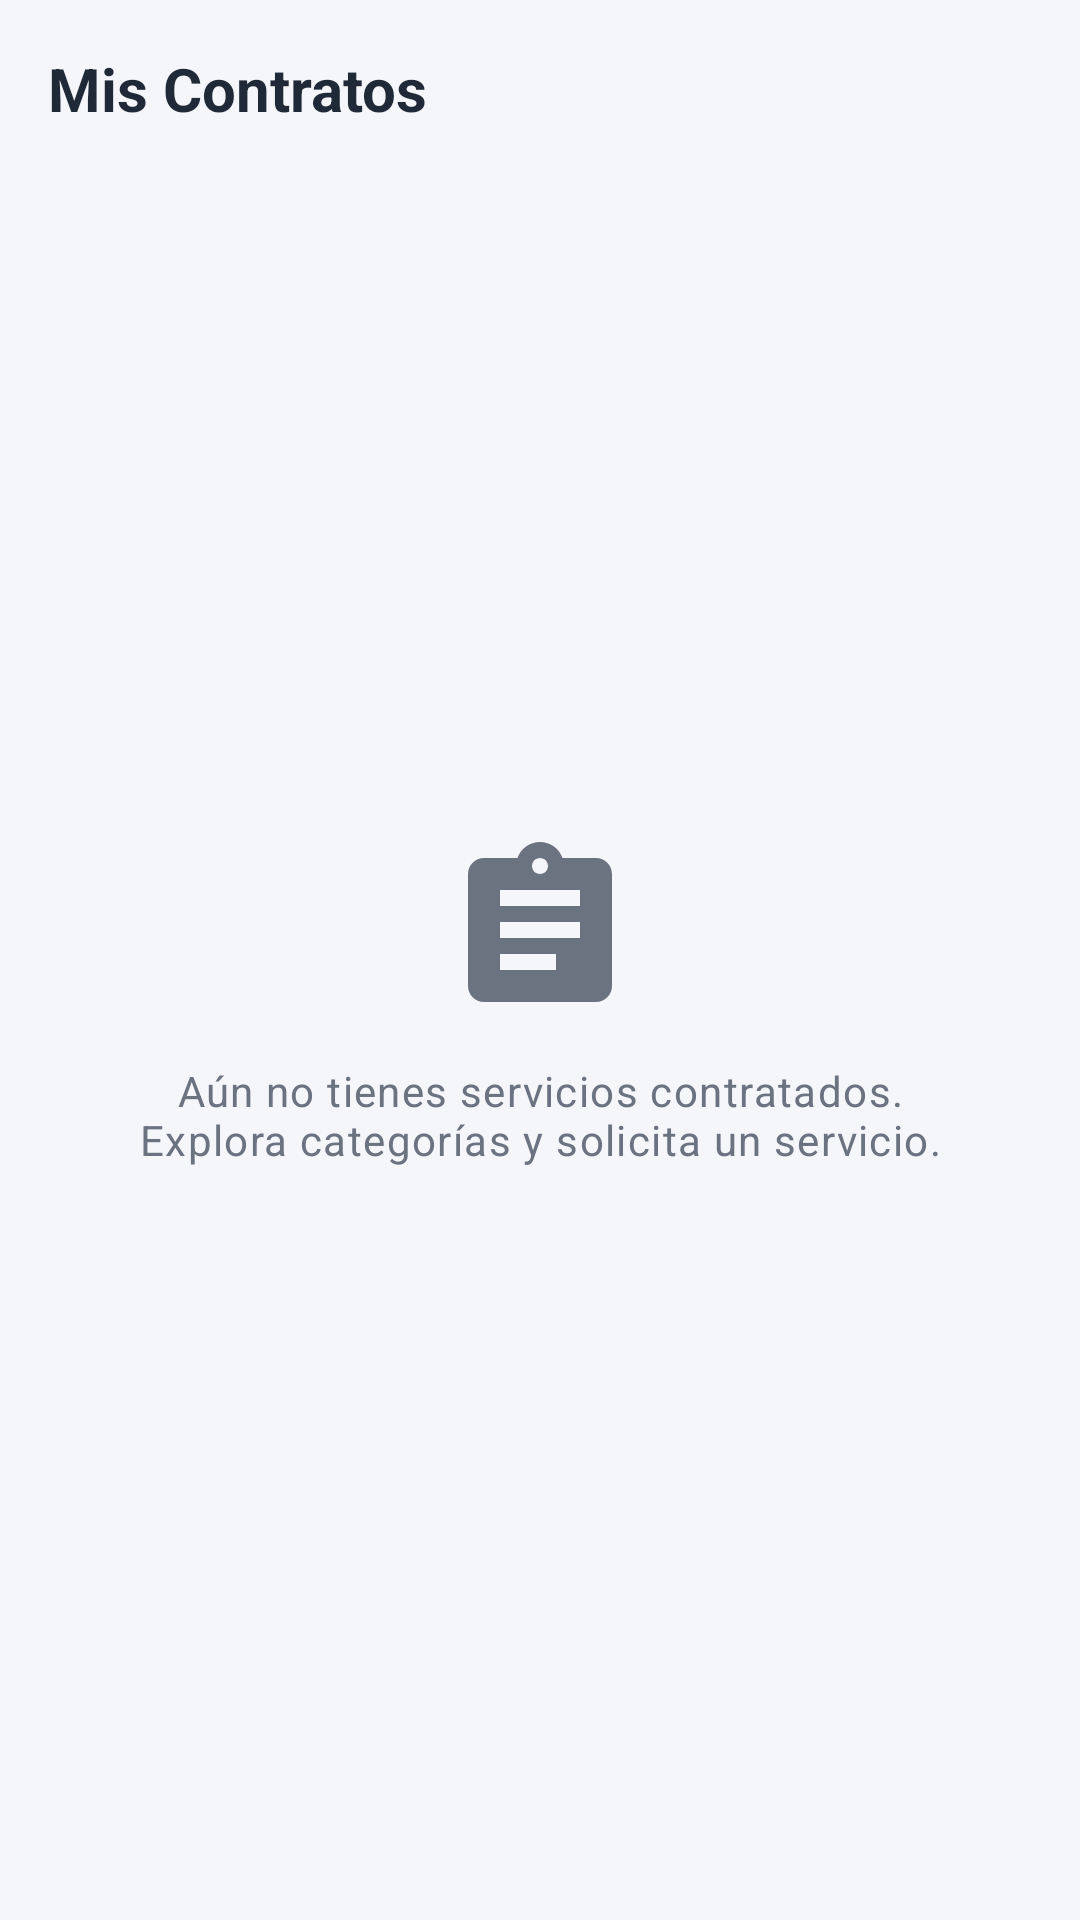

Where to tap for icons on this 1080*1920 app screen, as [x,y]:
assignment: [540,922]
